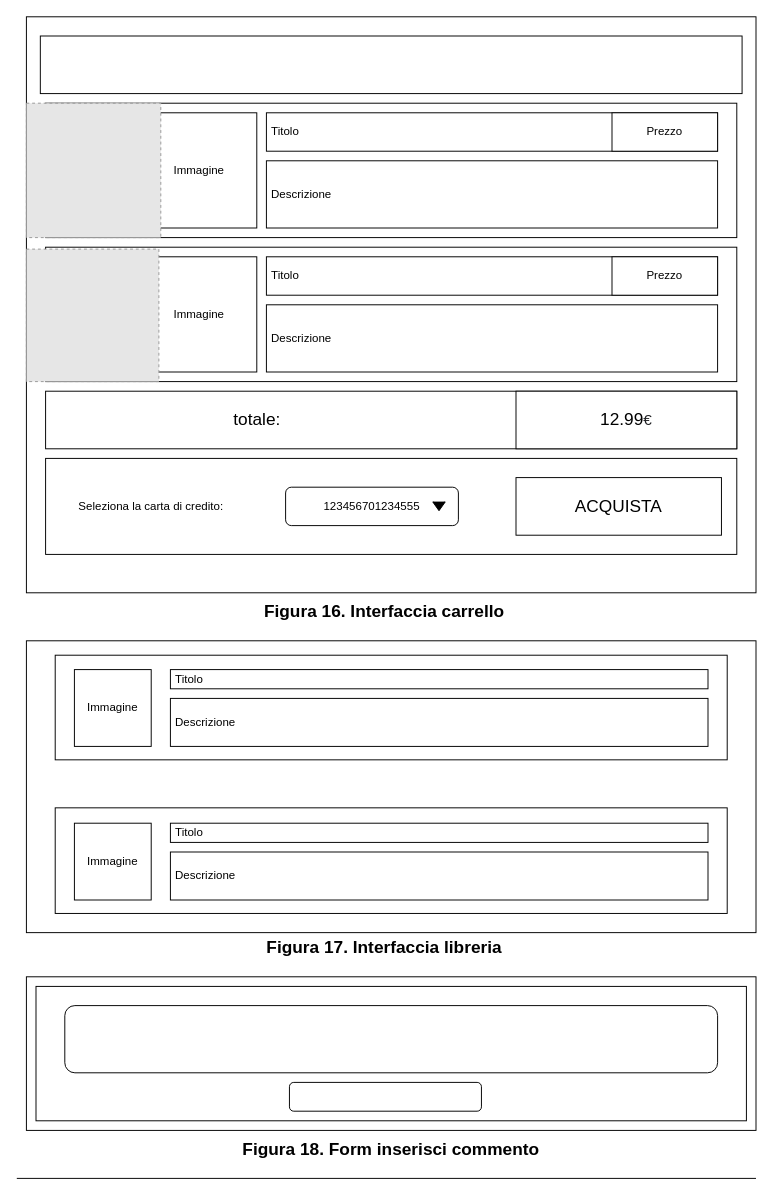
Image size: 774x1196. Some labels were removed from this diagram. Grey dashed boxes stand in for pictures. Here are the shapes that lost their labels. From the top down, the centre of each, then its label:
At [390,64]: "CARRELLO".
At [391,1039]: "Commento".
At [384,1096]: "INVIA".
